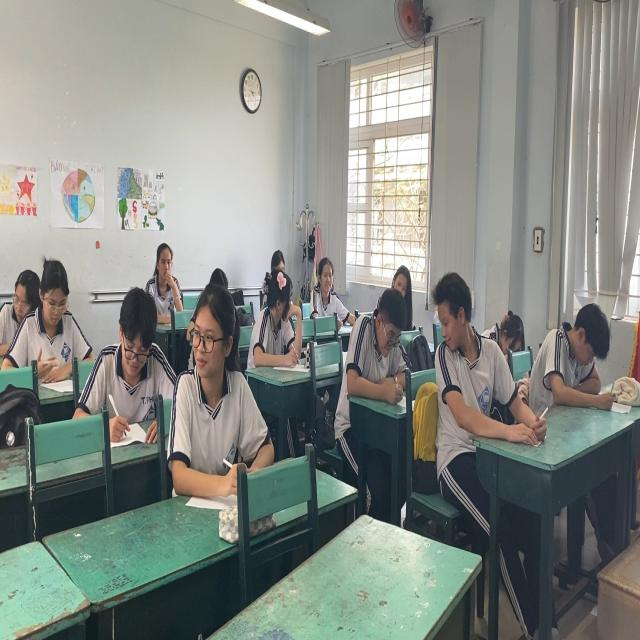cheating: (174, 278, 255, 497), (426, 268, 520, 438), (242, 265, 313, 365)
not_cheating: (94, 280, 175, 438), (28, 245, 106, 379), (546, 296, 622, 424), (347, 289, 412, 407), (147, 234, 183, 327), (312, 244, 352, 327), (1, 259, 37, 334), (376, 255, 412, 306)
